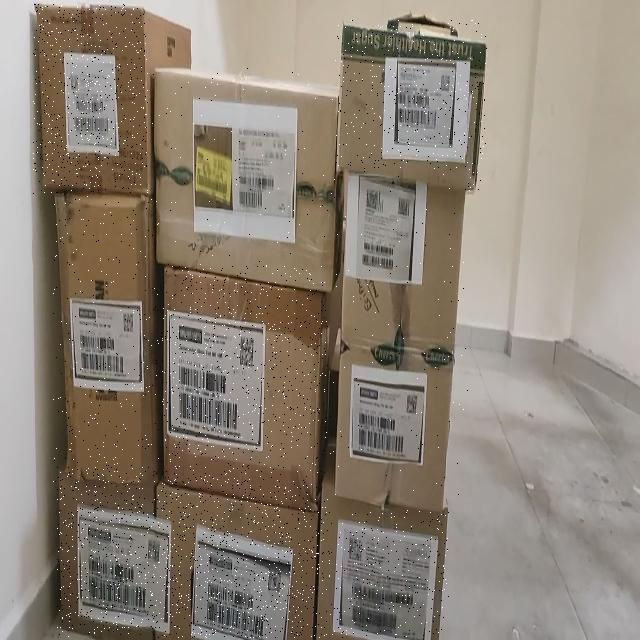BoxFace: (328, 170, 468, 512), (152, 65, 340, 293), (161, 264, 329, 511), (53, 190, 159, 487), (335, 20, 487, 192), (155, 479, 319, 638), (33, 4, 148, 194), (316, 476, 449, 638), (57, 468, 169, 638)
